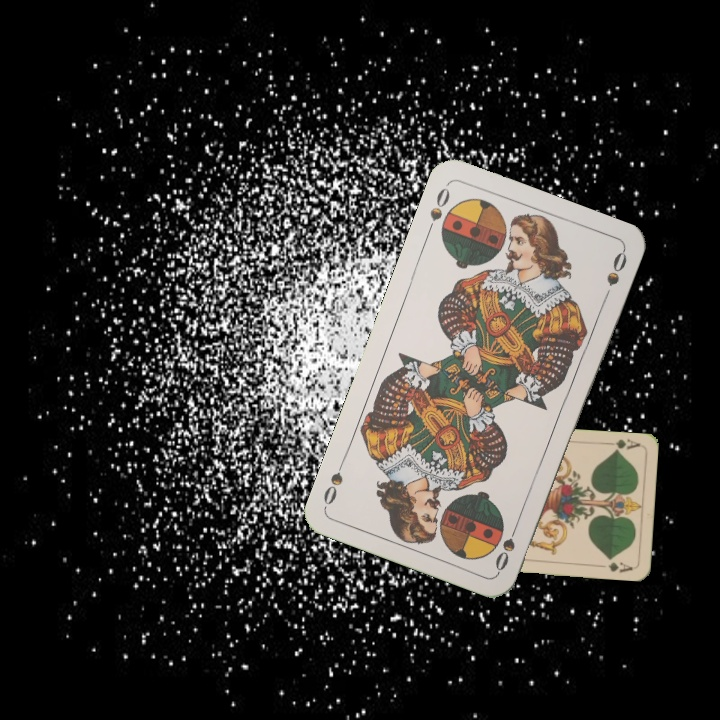GA: (602, 435, 642, 454)
SO: (491, 517, 522, 574), (422, 181, 453, 238)
